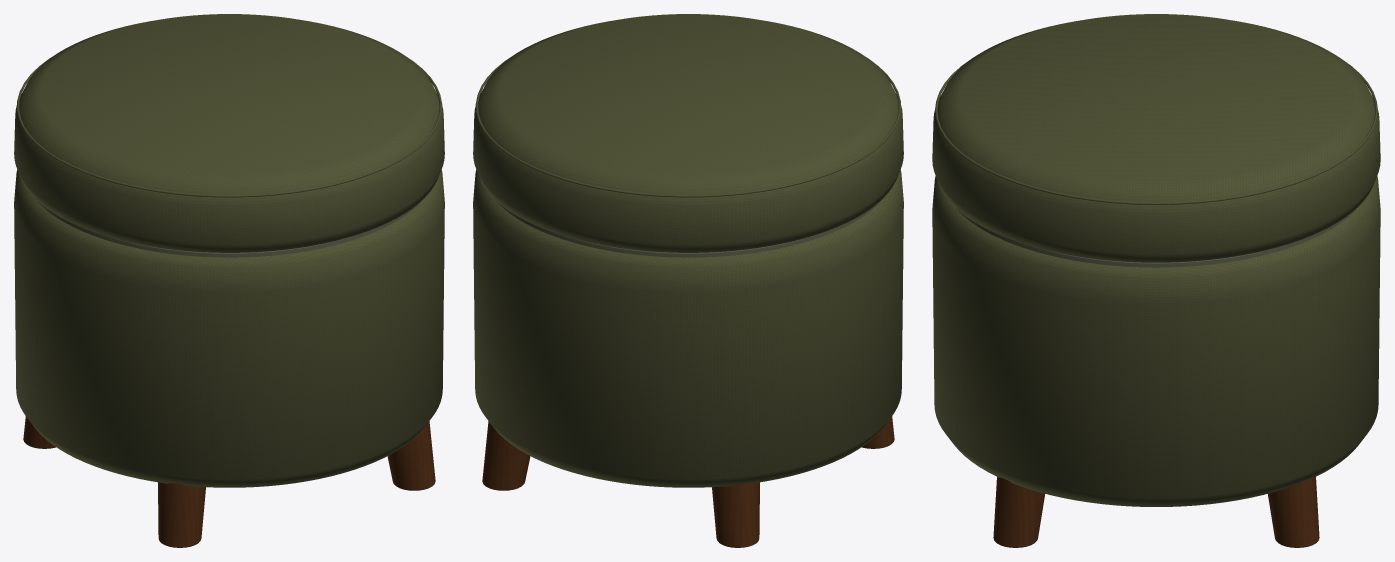
File: homepop-round-velvet-ottoman.glb
The picture shows the model from 3 angles, left to right: view 1: azimuth 30°, elevation 25°; view 2: azimuth 150°, elevation 25°; view 3: azimuth 270°, elevation 25°; orthographic projection. The views are drawn at different scales.
Parts seen in each view (by area): view 1: Soft upholstered storage drum, Separate rounded padded lid, Short tapered wood foot, Short tapered wood foot.002, Lid top circular welt, Recessed lid seating shadow; view 2: Soft upholstered storage drum, Separate rounded padded lid, Short tapered wood foot.001, Short tapered wood foot.003, Lid top circular welt, Recessed lid seating shadow; view 3: Soft upholstered storage drum, Separate rounded padded lid, Short tapered wood foot.002, Short tapered wood foot.003, Lid top circular welt, Recessed lid seating shadow.
Boxes of the visible parts, <box> form: Soft upholstered storage drum: <box>14,169,444,487</box>; Separate rounded padded lid: <box>14,14,444,252</box>; Short tapered wood foot: <box>158,482,205,547</box>; Short tapered wood foot.002: <box>387,421,435,490</box>; Lid top circular welt: <box>16,58,442,197</box>; Recessed lid seating shadow: <box>35,199,423,257</box>; Soft upholstered storage drum: <box>473,169,903,487</box>; Separate rounded padded lid: <box>473,14,903,252</box>; Short tapered wood foot.001: <box>712,482,759,547</box>; Short tapered wood foot.003: <box>482,421,530,490</box>; Lid top circular welt: <box>475,58,901,197</box>; Recessed lid seating shadow: <box>494,199,882,257</box>; Soft upholstered storage drum: <box>932,176,1380,506</box>; Separate rounded padded lid: <box>932,14,1380,262</box>; Short tapered wood foot.002: <box>993,477,1044,547</box>; Short tapered wood foot.003: <box>1268,477,1319,547</box>; Lid top circular welt: <box>935,57,1377,204</box>; Recessed lid seating shadow: <box>956,208,1356,267</box>.
Size of the model in its own units: 0.4826 by 0.4572 by 0.4826.
Materials: 3 (2 with a texture image).
